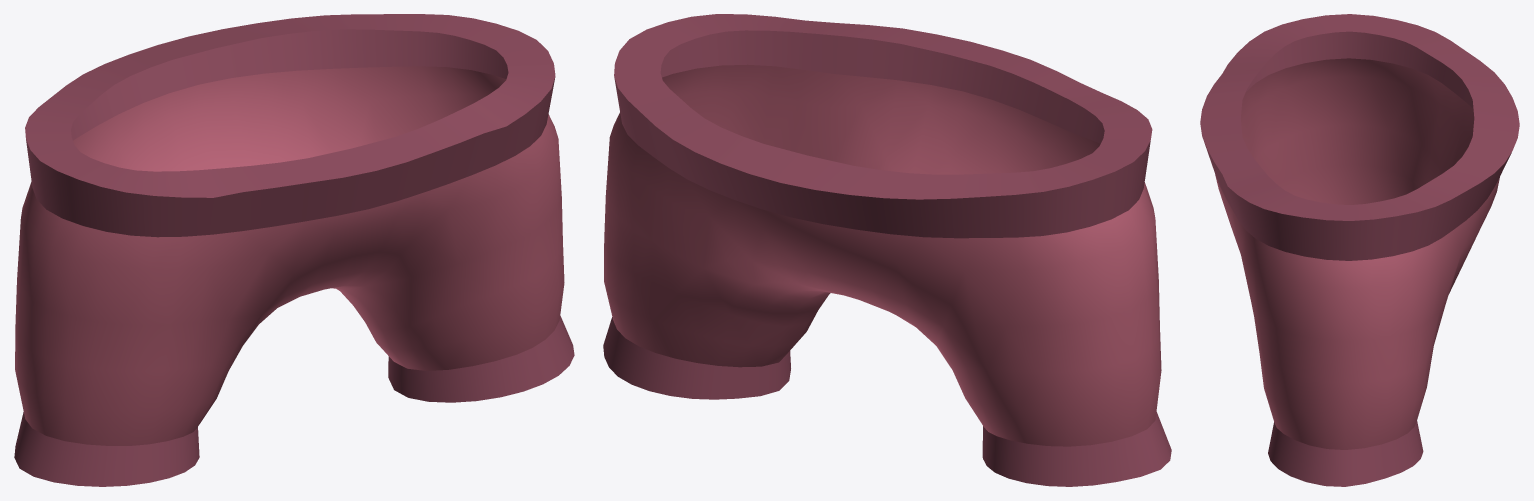
The model's file is 9夏日裤.fbx.
3 views of the same model, side by side, from view 1: azimuth 30°, elevation 25°; view 2: azimuth 150°, elevation 25°; view 3: azimuth 270°, elevation 25° (orthographic). The views are drawn at different scales.
Visible parts, largest first — view 1: 9夏日裤; view 2: 9夏日裤; view 3: 9夏日裤.
Boxes of the visible parts, left/top/right/bottom form: 9夏日裤: left=14, top=14, right=574, bottom=486; 9夏日裤: left=603, top=14, right=1171, bottom=486; 9夏日裤: left=1200, top=14, right=1519, bottom=486.
Size of the model in its own units: 0.6449 by 0.3544 by 0.3839.
